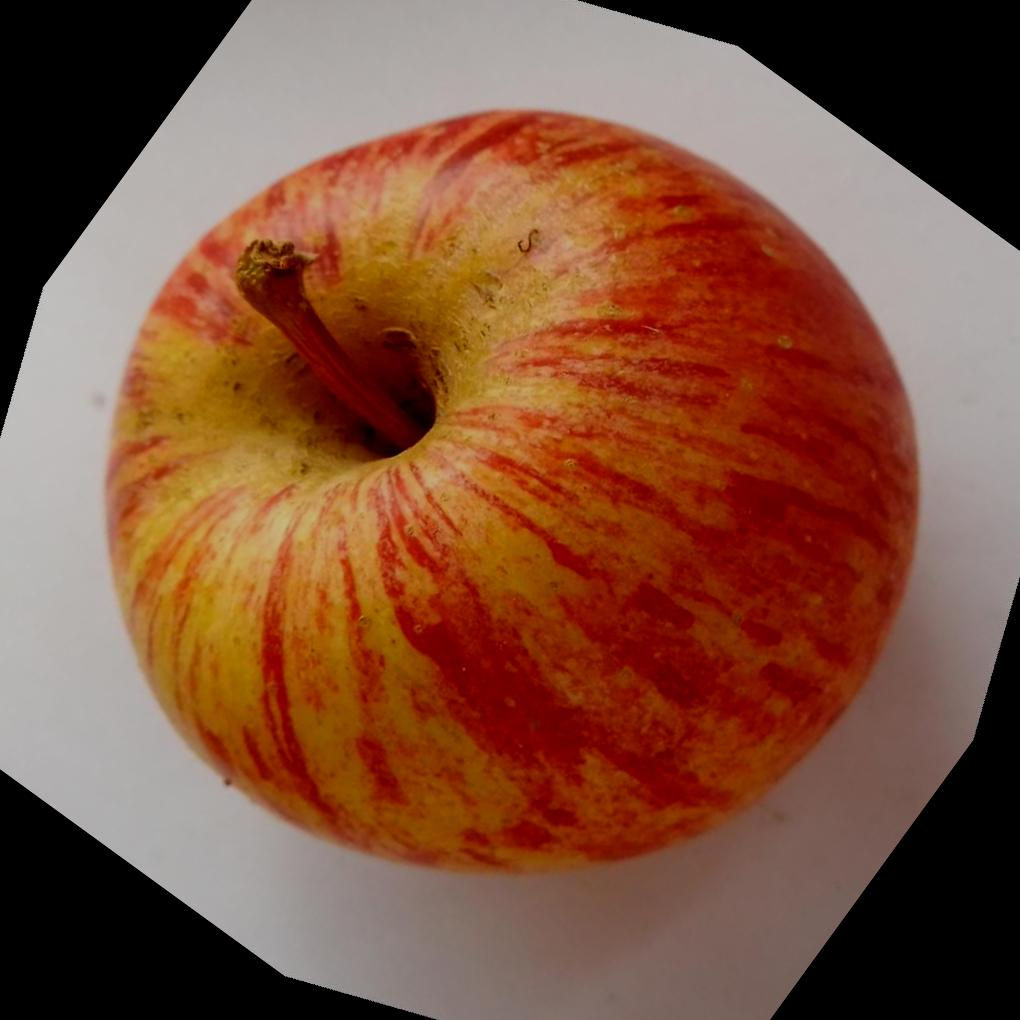FreshGuava: (102, 103, 926, 878)
